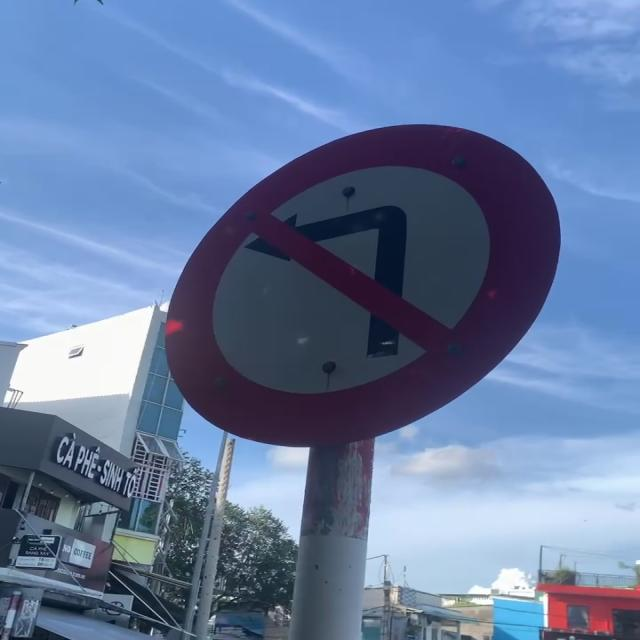Cam_Re_Trai: (162, 120, 562, 460)
